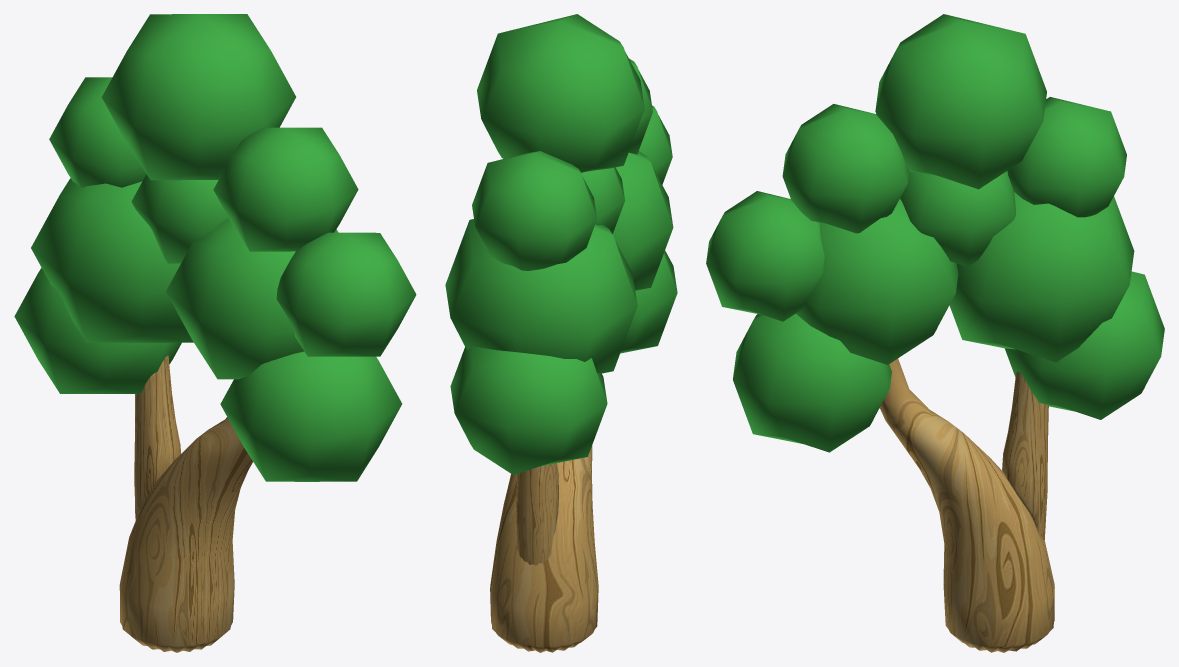
The model's file is arvore 1.fbx.
The picture shows the model from 3 angles, left to right: view 1: azimuth 30°, elevation 25°; view 2: azimuth 150°, elevation 25°; view 3: azimuth 270°, elevation 25°; orthographic projection. The views are drawn at different scales.
Visible parts, largest first — view 1: polySurface19; view 2: polySurface19; view 3: polySurface19.
Boxes of the visible parts, left/top/right/bottom form: polySurface19: left=14, top=14, right=416, bottom=652; polySurface19: left=445, top=14, right=677, bottom=652; polySurface19: left=706, top=14, right=1164, bottom=652.
Size of the model in its own units: 3.43 by 9.77 by 6.59.
2 materials, 1 textured.
